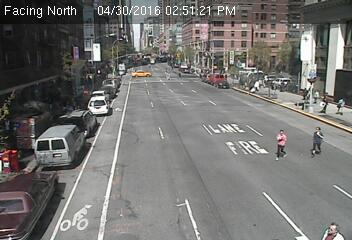neg: (214, 120, 250, 168), (247, 31, 280, 74), (165, 105, 197, 148), (108, 66, 138, 107), (7, 54, 37, 94), (121, 161, 147, 195), (50, 31, 75, 65), (58, 103, 83, 136), (213, 54, 238, 87), (73, 195, 96, 226), (157, 46, 180, 77), (9, 142, 29, 168)
pos: (266, 123, 294, 161), (304, 125, 330, 160), (319, 90, 336, 112), (335, 94, 350, 114)
